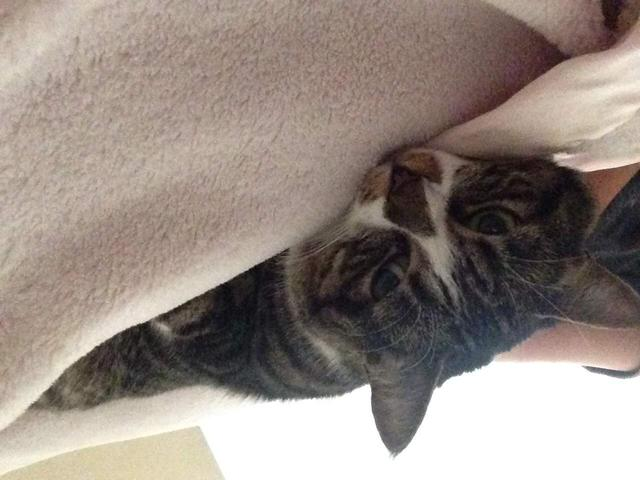playdoh: (26, 140, 635, 459)
